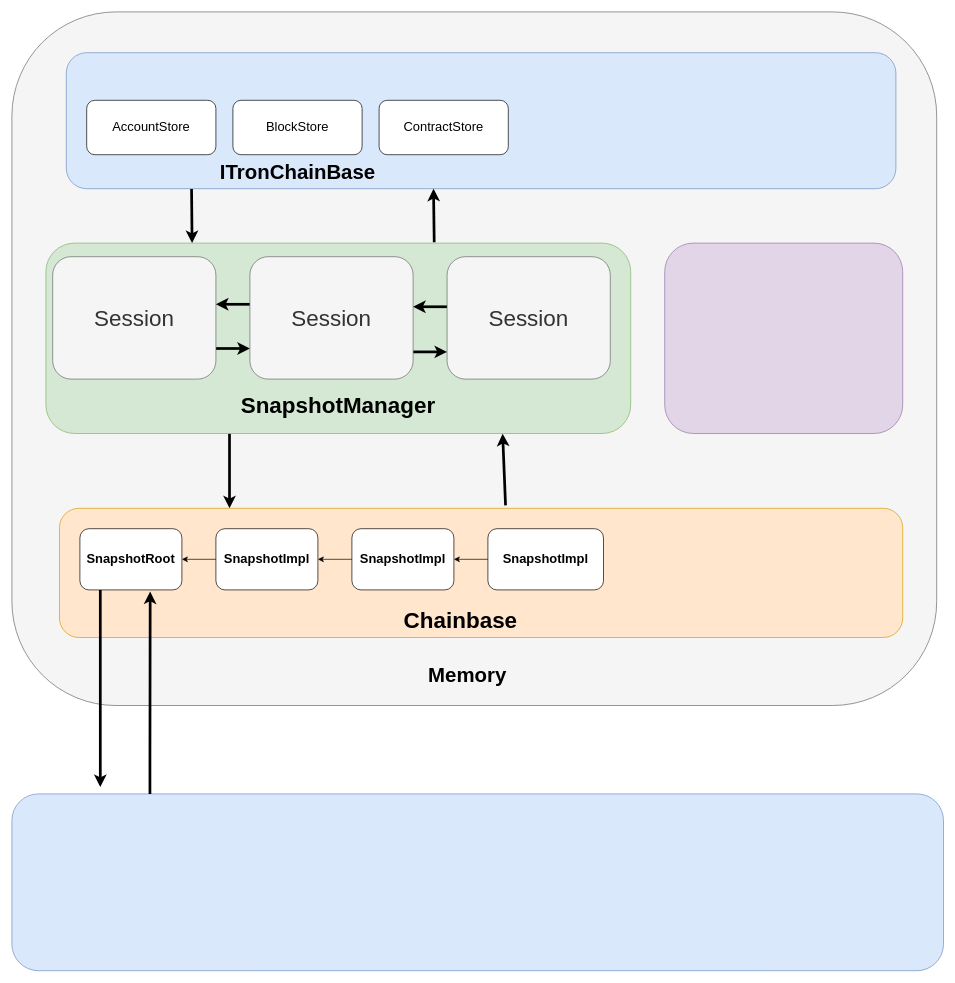
Image size: 955x983. Some labels were removed from this diagram. The centre of each missing label's shape, as x and y in pixels:
Khaos: the point at 783,338
leveldb: the point at 477,882
